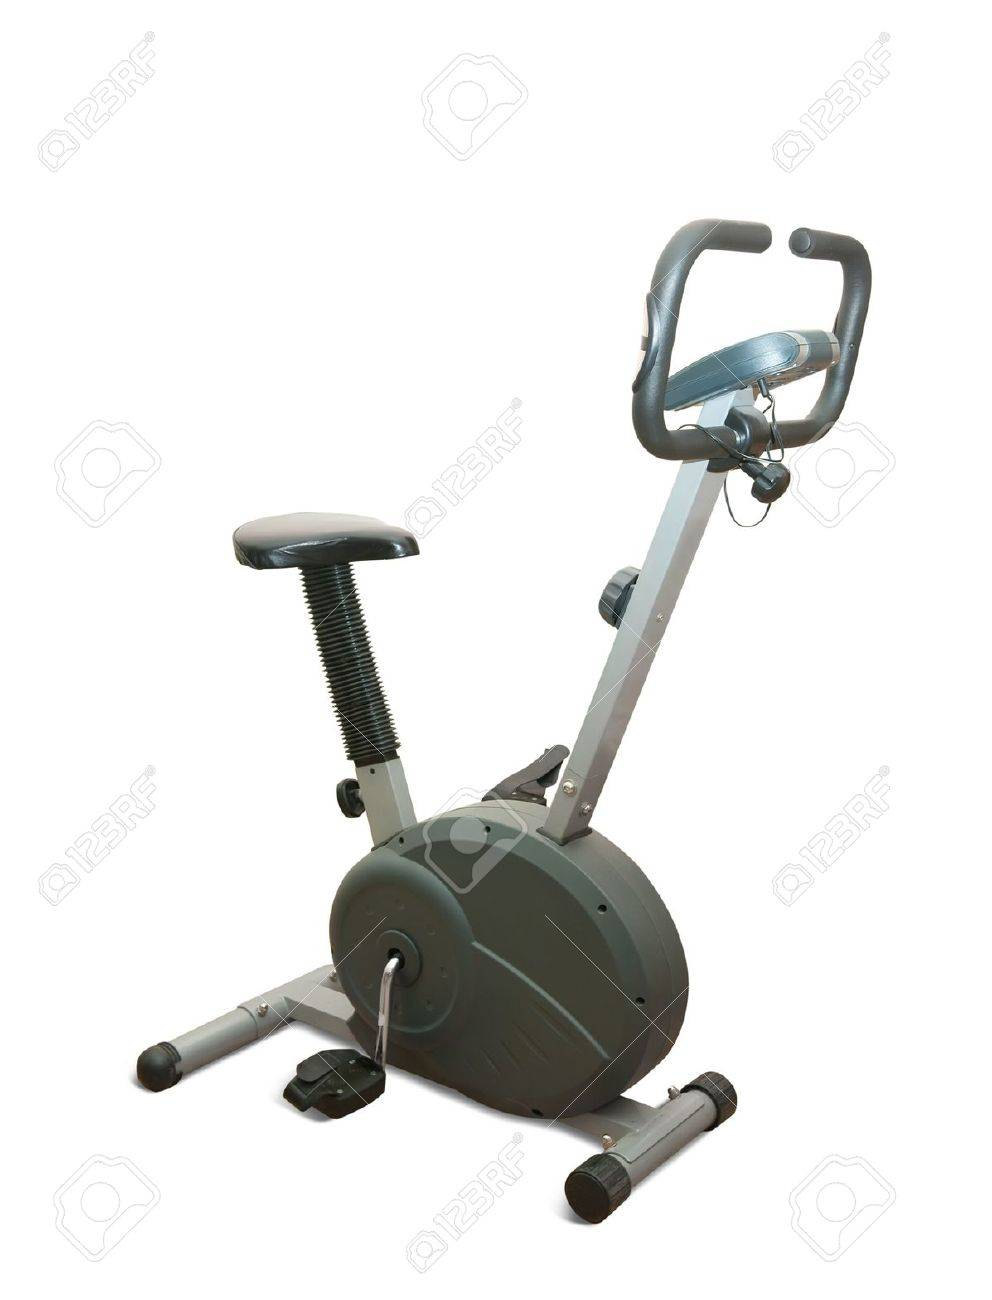gym_bike: (116, 213, 882, 1227)
